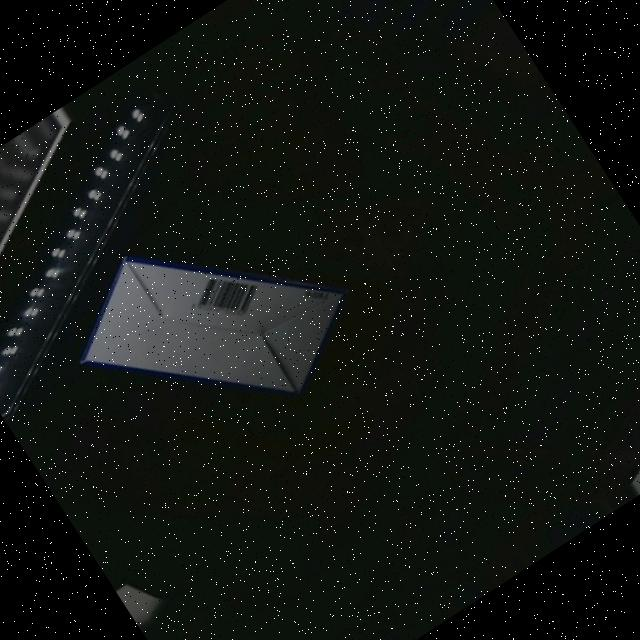prenolol: (77, 252, 350, 400)
